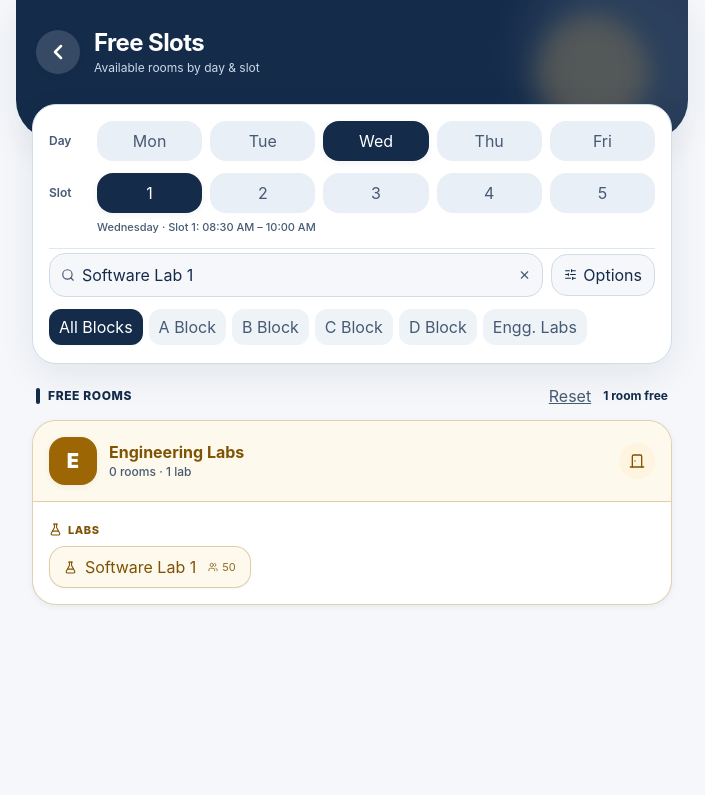
Test: FreeSlotsNavigator › filters free rooms by search text, block pills, room type, seats, and features
The image size is (705, 795).
Earlier steps of the test are not shown.
Expected: the text "1 room free" is shown, [603, 388, 668, 404]
Expected: the heading "Engineering Labs" is shown, [109, 442, 244, 462]
Clear search button restores all 34 rooms
Click the button named "Clear room search": (525, 274) [516, 266, 533, 283]
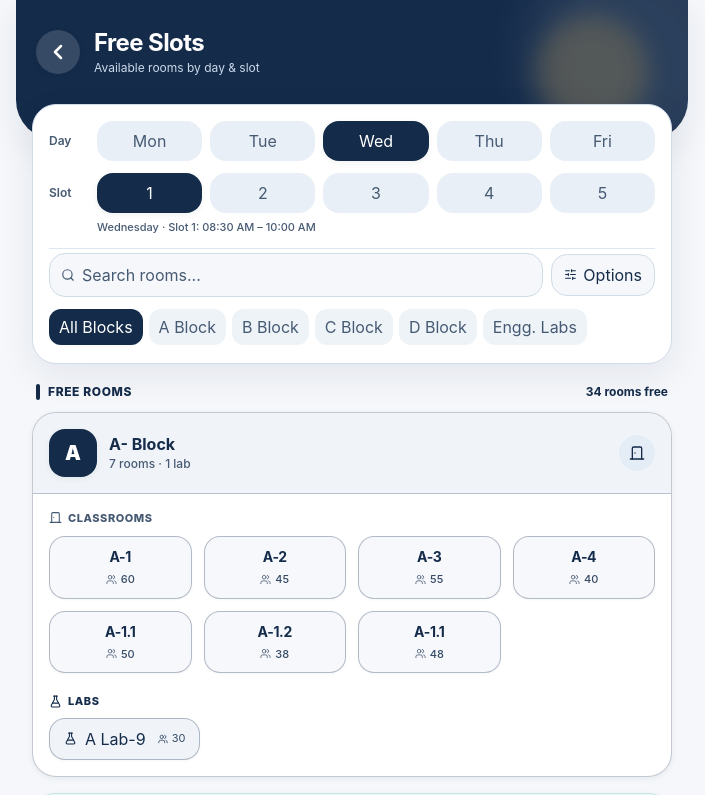
Expected: the text "34 rooms free" is shown, [586, 384, 668, 400]
Quick block filter pill
Click the button "A Block": (187, 326) [149, 308, 226, 344]
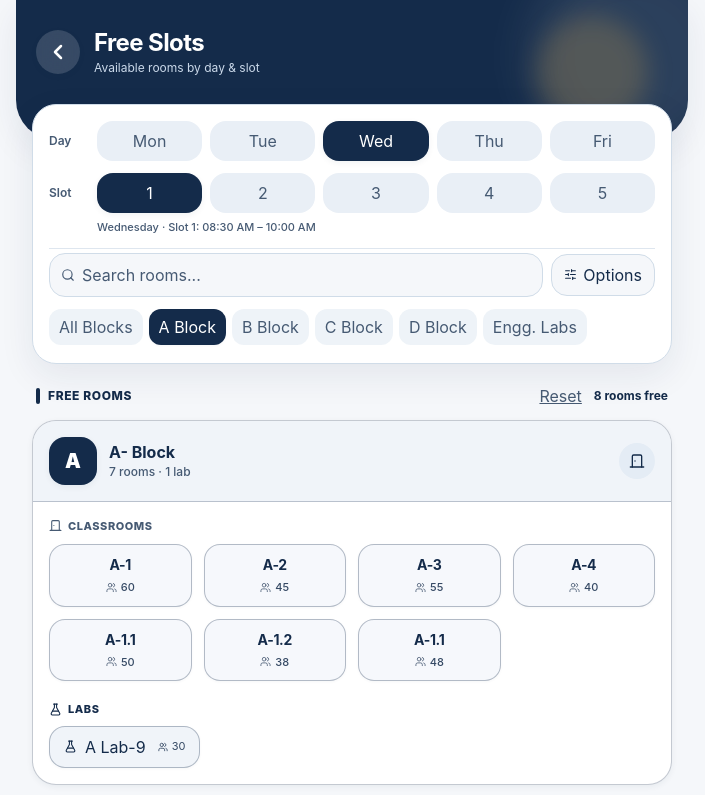
Expected: the heading "A- Block" is shown, [109, 442, 175, 462]
Expected: the text "8 rooms free" is shown, [594, 388, 668, 404]
Expand more search options and filter to Labs only
Click the button "Options": (603, 274) [551, 254, 655, 296]
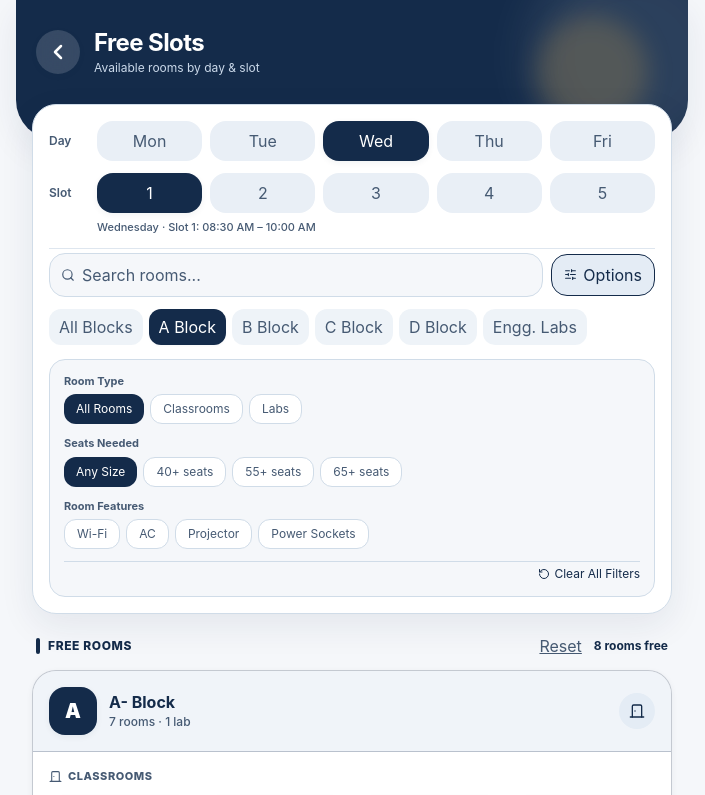
Click the button "Labs": (276, 409) [249, 394, 302, 424]
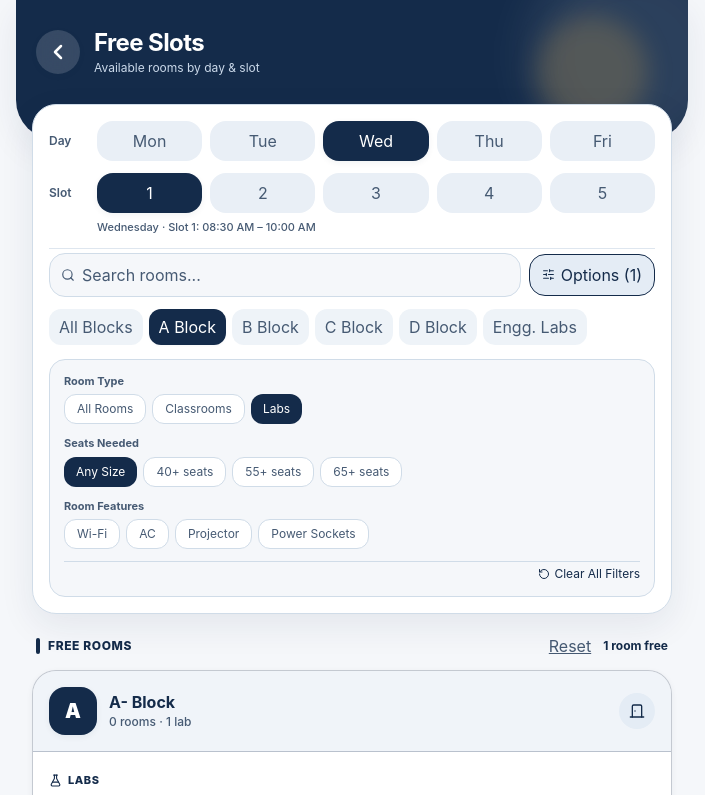
Expected: the text "1 room free" is shown, [603, 638, 668, 654]
Click the button "65+ seats": (361, 472) [320, 457, 402, 487]
(page scrolled)
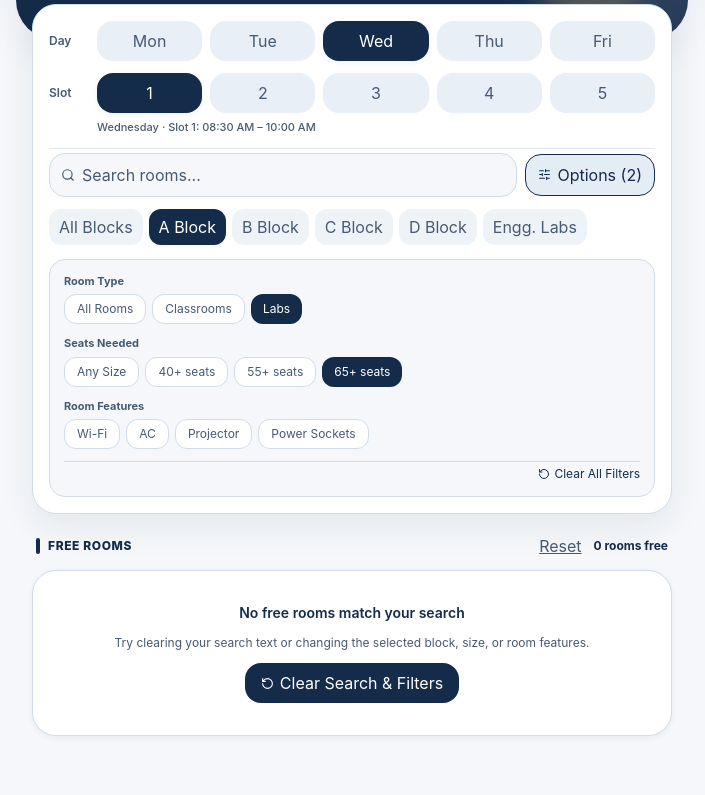
Expected: the text "No free rooms match your search" is shown, [239, 604, 465, 622]
Click the button "Clear Search & Filters": (352, 684) [245, 664, 459, 704]
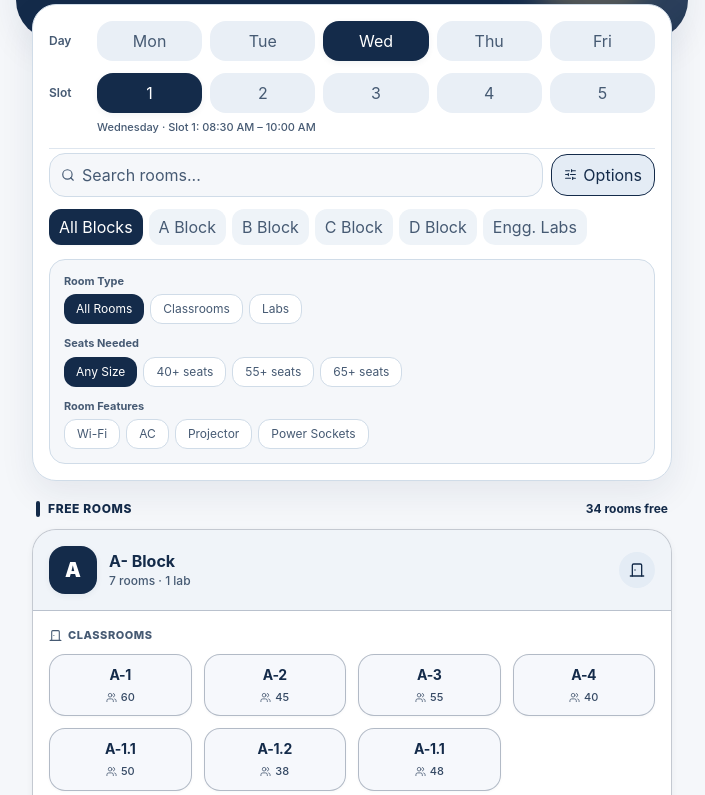
Expected: the text "34 rooms free" is shown, [586, 502, 668, 518]
